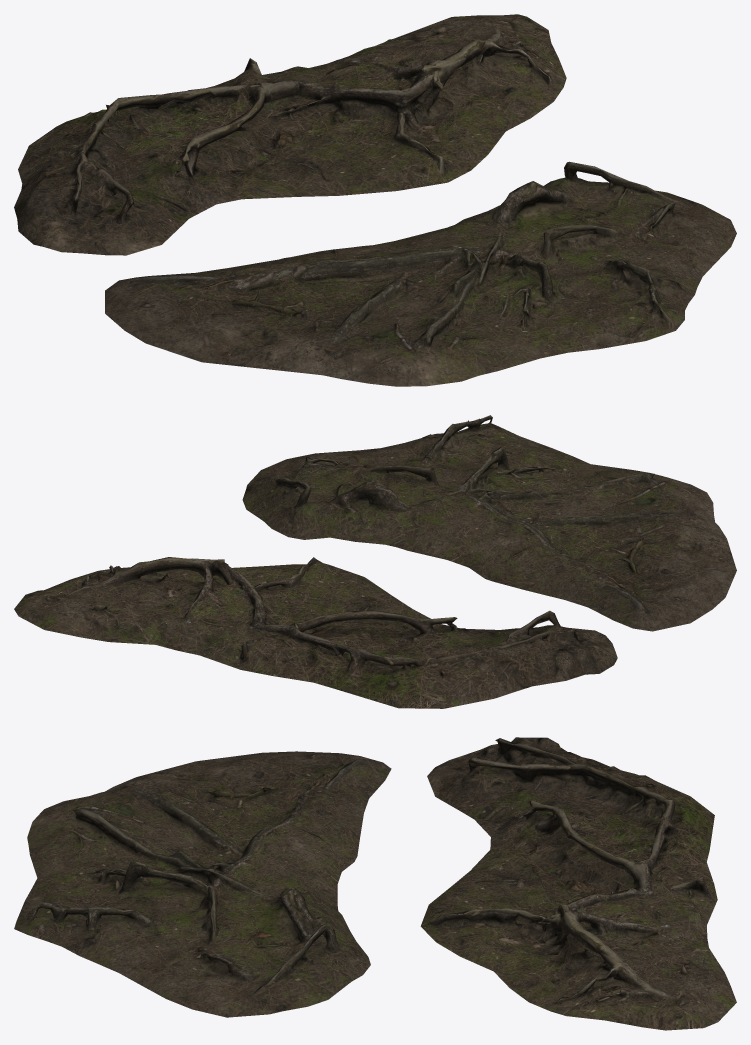
Rendered from pine_roots.glb.
3 views of the same model, one above another, from view 1: azimuth 30°, elevation 25°; view 2: azimuth 150°, elevation 25°; view 3: azimuth 270°, elevation 25° (orthographic). The views are drawn at different scales.
Size of the model in its own units: 1.76 by 0.151 by 1.88.
Materials: 2 (2 with a texture image).
